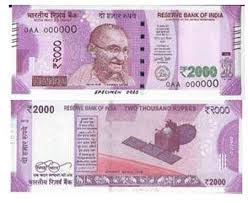twoThousand: (23, 19, 226, 80)
